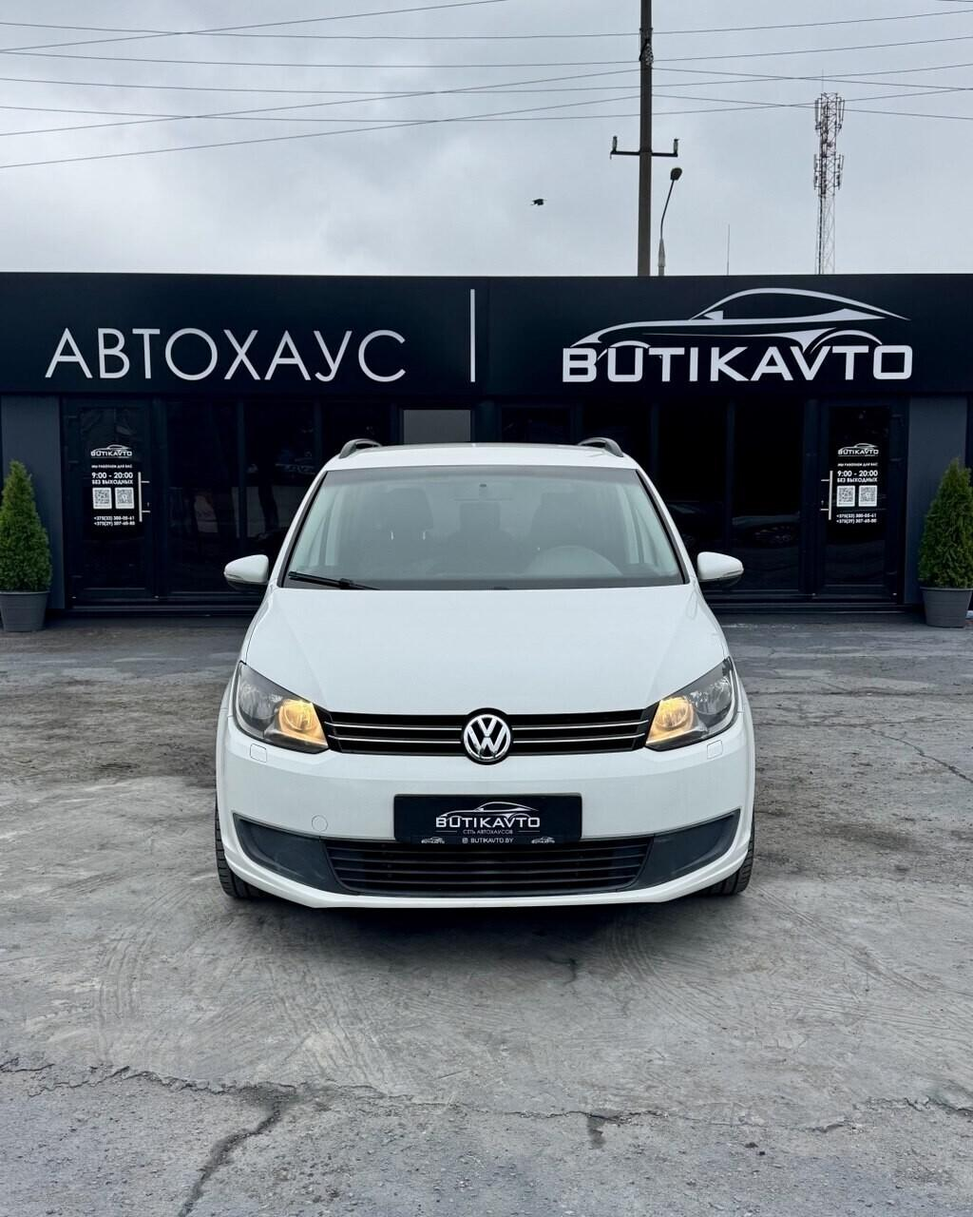Touran_2010-2015: (207, 433, 762, 940)
